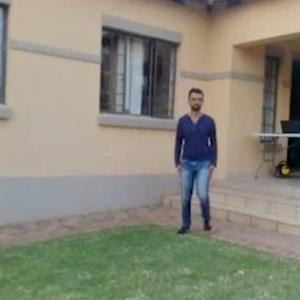follow: (172, 80, 220, 246)
